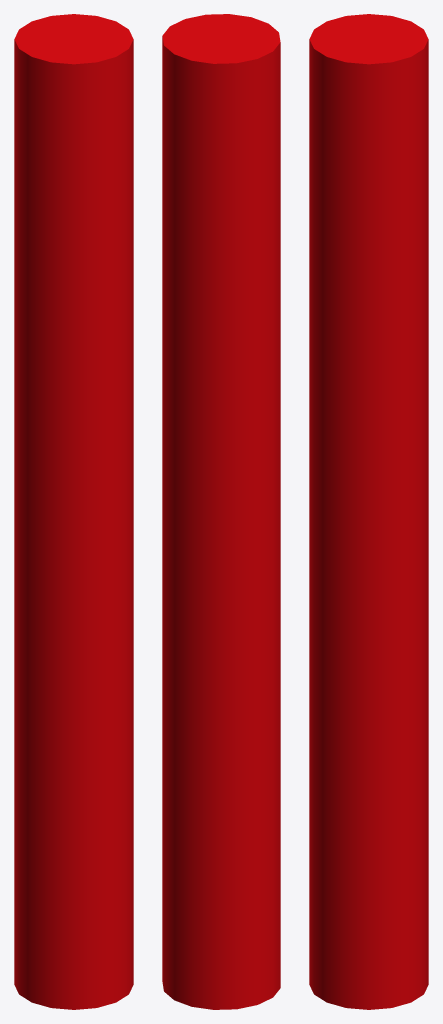
The model's file is rurkagora.fbx.
The picture shows the model from 3 angles, left to right: view 1: azimuth 90°, elevation 25°; view 2: azimuth 150°, elevation 25°; view 3: azimuth 270°, elevation 25°; orthographic projection.
Visible parts, largest first — view 1: Cylinder.004; view 2: Cylinder.004; view 3: Cylinder.004.
Boxes of the visible parts, box(x1,y1,x2,y2) form: Cylinder.004: box(14, 14, 133, 1009); Cylinder.004: box(162, 14, 280, 1009); Cylinder.004: box(309, 14, 428, 1009).
Bounding box in the file's own units: 2.36 × 20.69 × 2.36.
